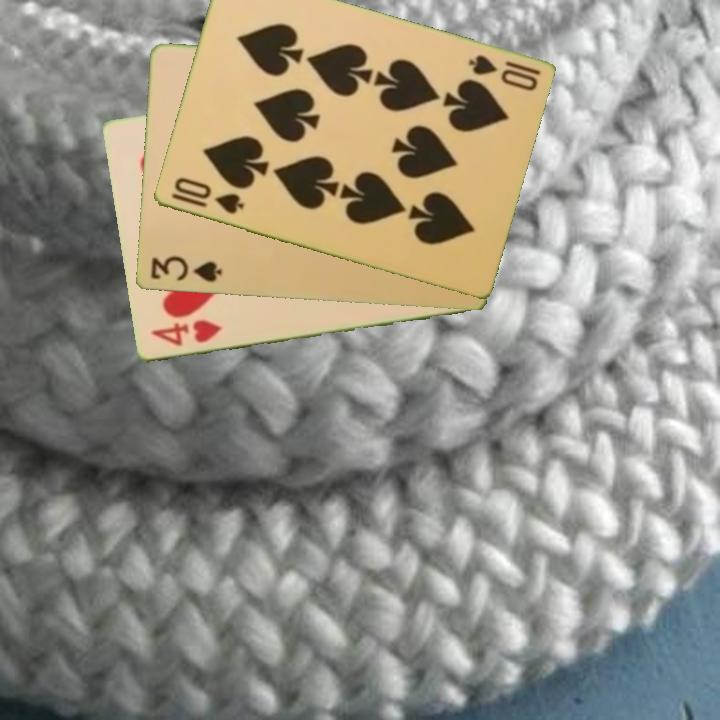10s: (166, 174, 246, 218), (464, 51, 543, 94)
3s: (146, 253, 225, 286)
4h: (147, 317, 224, 350)
